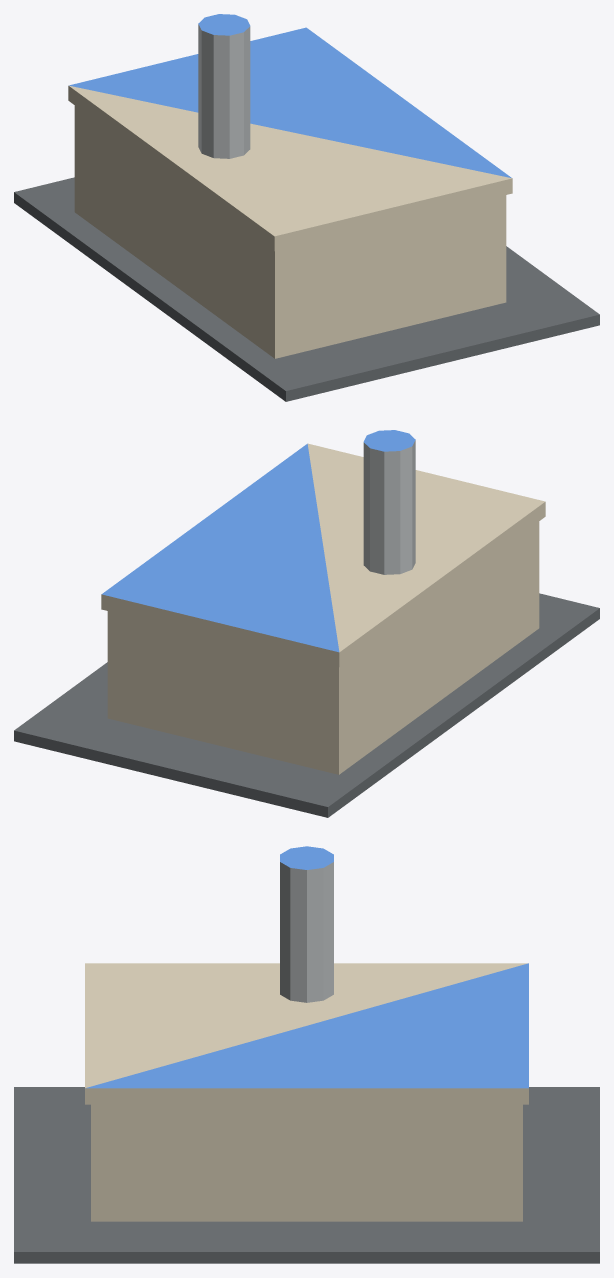
Rendered from meridian_power_plant.glb.
3 views of the same model, one above another, from view 1: azimuth 30°, elevation 25°; view 2: azimuth 150°, elevation 25°; view 3: azimuth 270°, elevation 25° (orthographic). The views are drawn at different scales.
Parts seen in each view (by area): view 1: hull; view 2: hull; view 3: hull.
Boxes of the visible parts, x1=… form: hull: x1=14, y1=14, x2=599, y2=401; hull: x1=14, y1=430, x2=599, y2=817; hull: x1=14, y1=846, x2=599, y2=1263.
Size of the model in its own units: 7.6 by 6 by 11.4.
